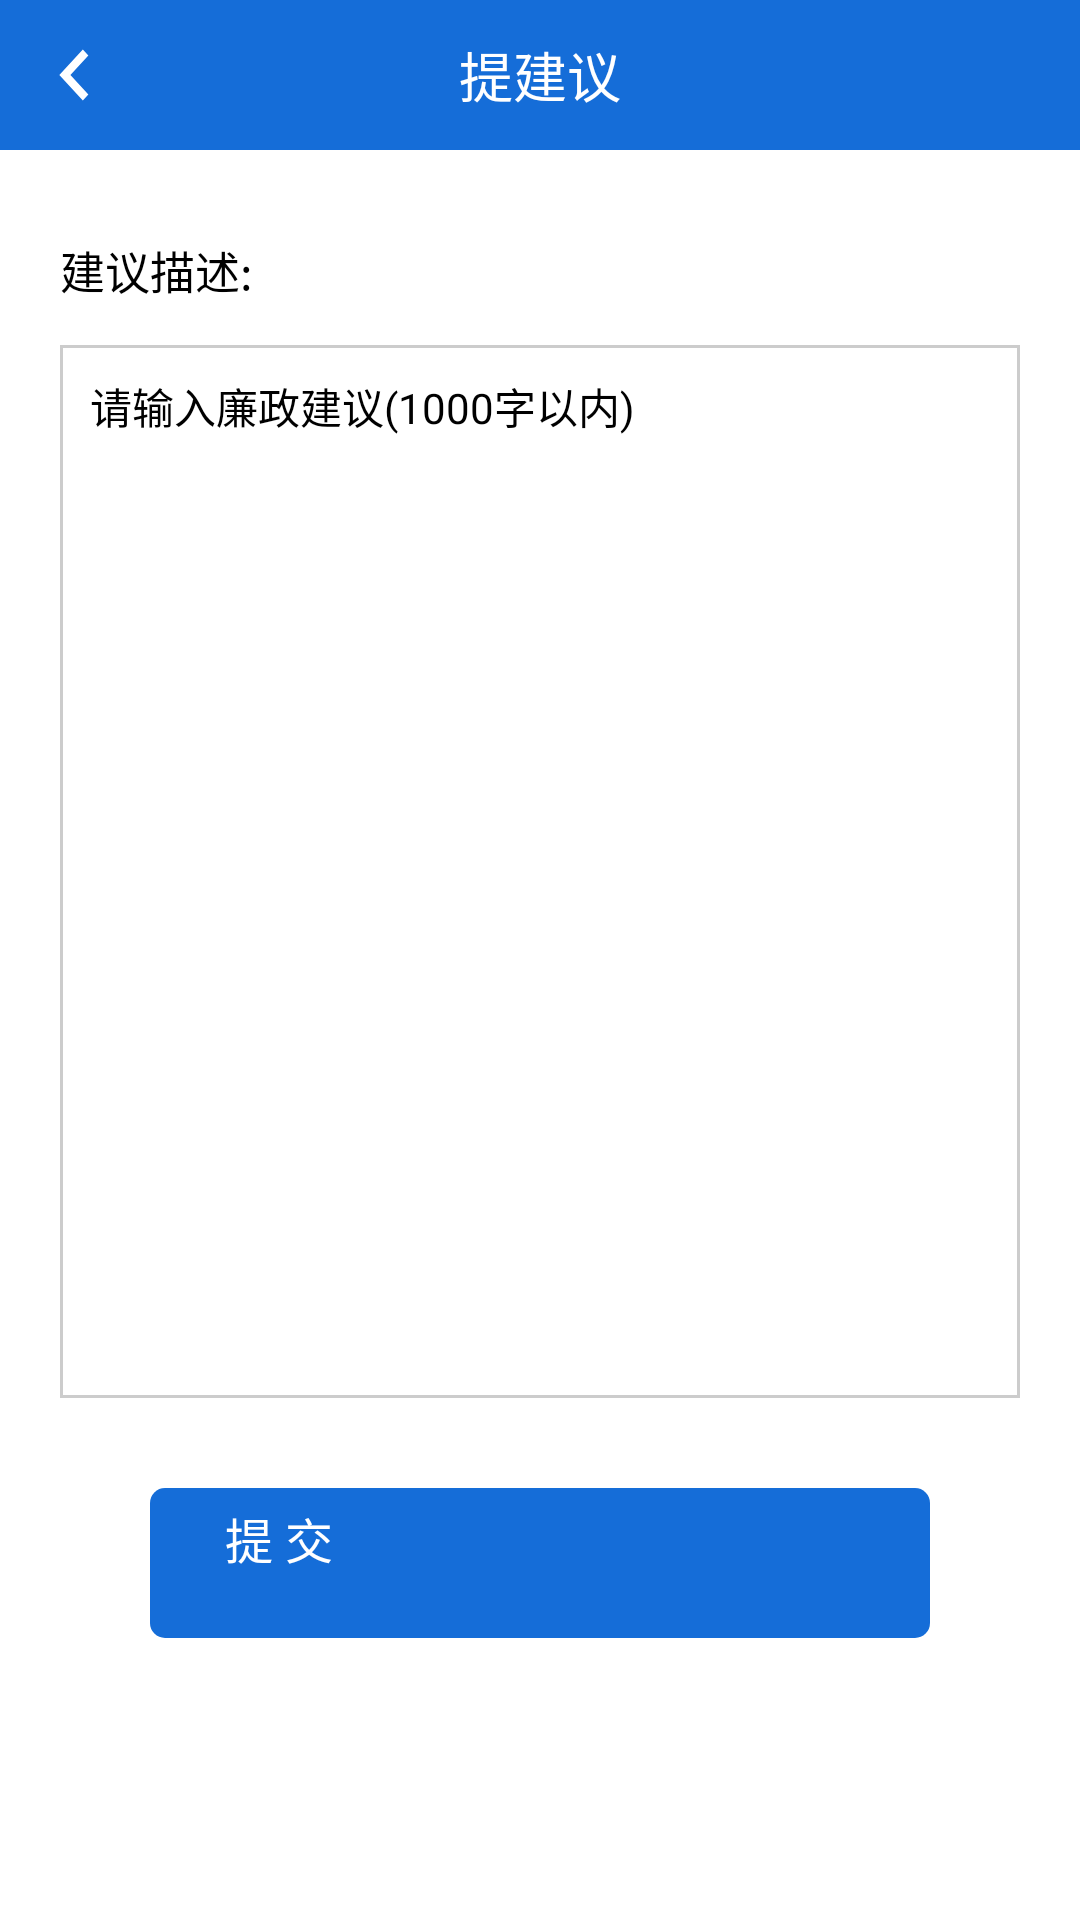

Where icons sit on this 1080x1920 app screen, as rect(x1, y1, x2, y2):
left: rect(59, 49, 89, 101)
